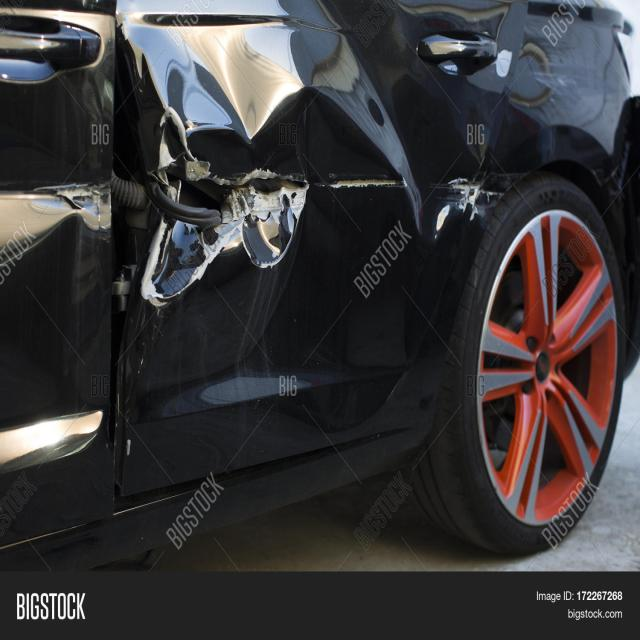crush: (73, 0, 531, 464)
